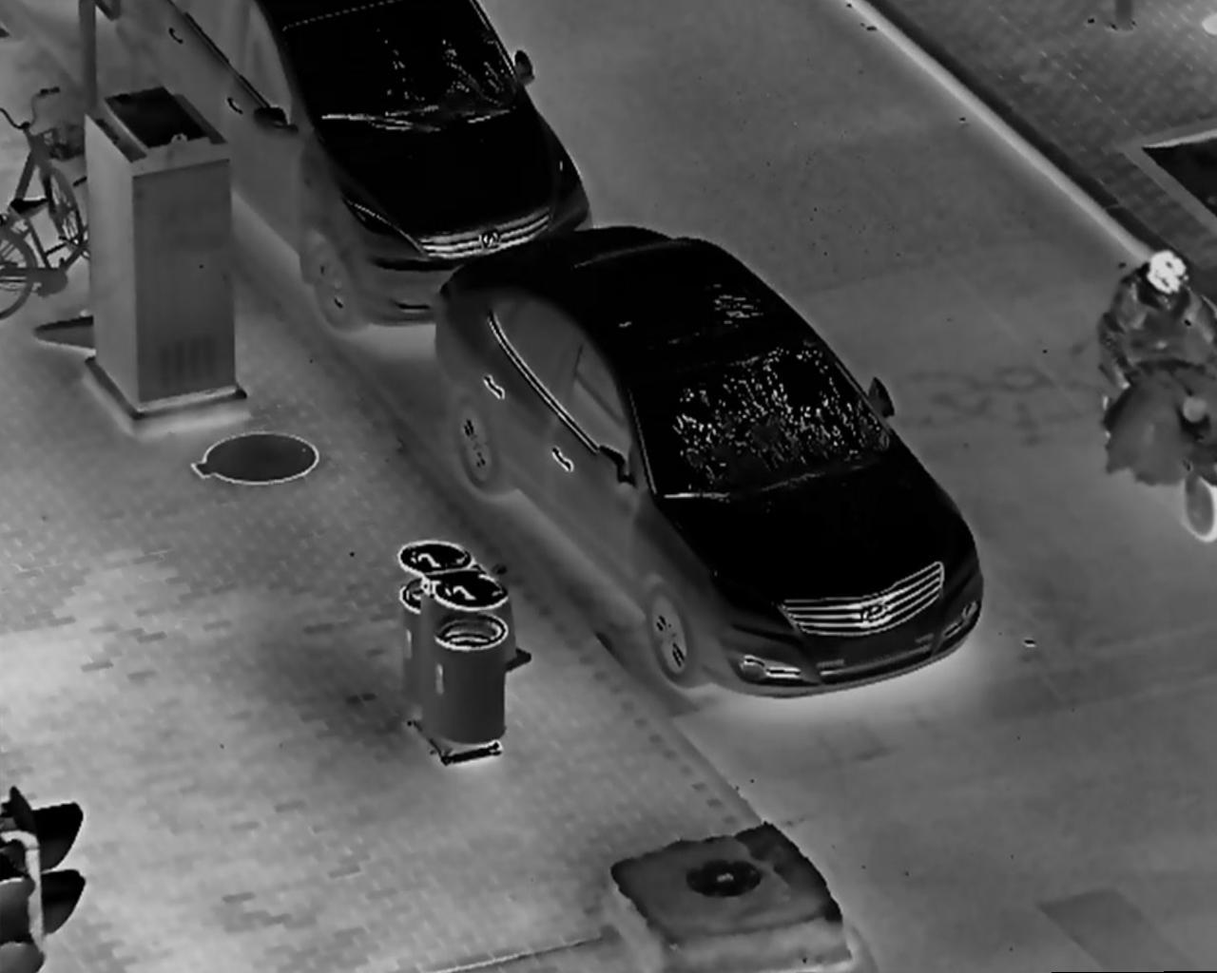person: (1098, 247, 1217, 485)
